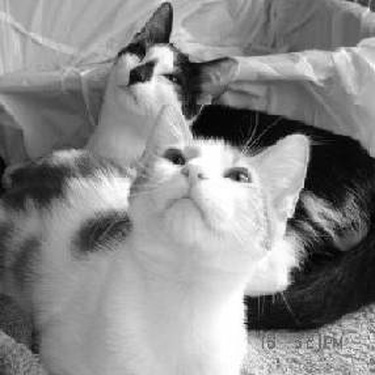cat: (26, 94, 312, 369), (66, 1, 213, 168)
